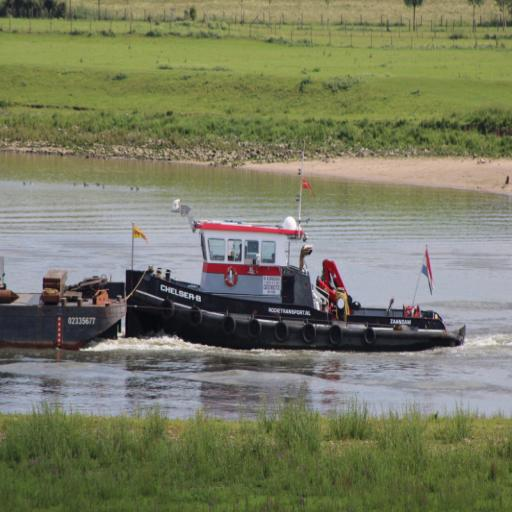tugboat: (124, 207, 474, 359)
